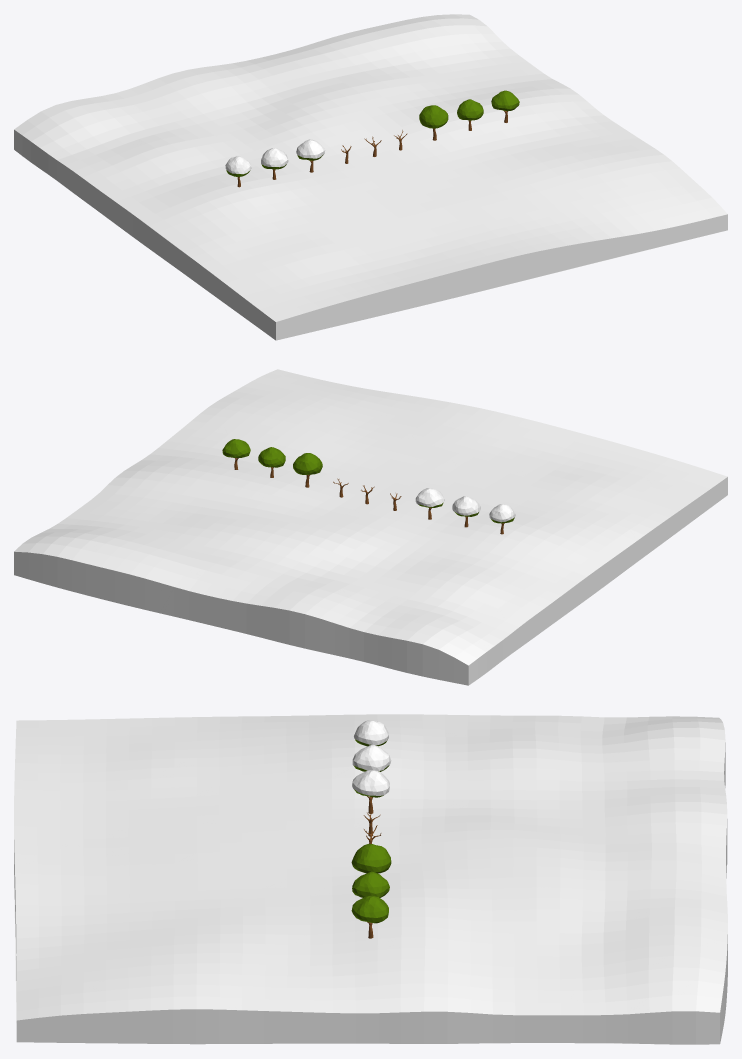
File: oak-trees-pack-1.fbx
The picture shows the model from 3 angles, top to bottom: view 1: azimuth 30°, elevation 25°; view 2: azimuth 150°, elevation 25°; view 3: azimuth 270°, elevation 25°; orthographic projection. The views are drawn at different scales.
Parts seen in each view (by area): view 1: Ground, Oak3; view 2: Ground, Oak3; view 3: Ground, Oak3, SnowOak2, Oak2, SnowOak1, Oak1, SnowOak3.
Boxes of the visible parts, <box> form: Ground: <box>14,14,727,340</box>; Oak3: <box>419,105,448,140</box>; Ground: <box>14,369,727,685</box>; Oak3: <box>293,453,322,487</box>; Ground: <box>14,714,727,1044</box>; Oak3: <box>351,844,391,873</box>; SnowOak2: <box>352,770,389,813</box>; Oak2: <box>351,895,388,938</box>; SnowOak1: <box>352,744,391,771</box>; Oak1: <box>352,871,389,897</box>; SnowOak3: <box>354,720,388,746</box>.
Size of the model in its own units: 7867 by 1112 by 7911.
